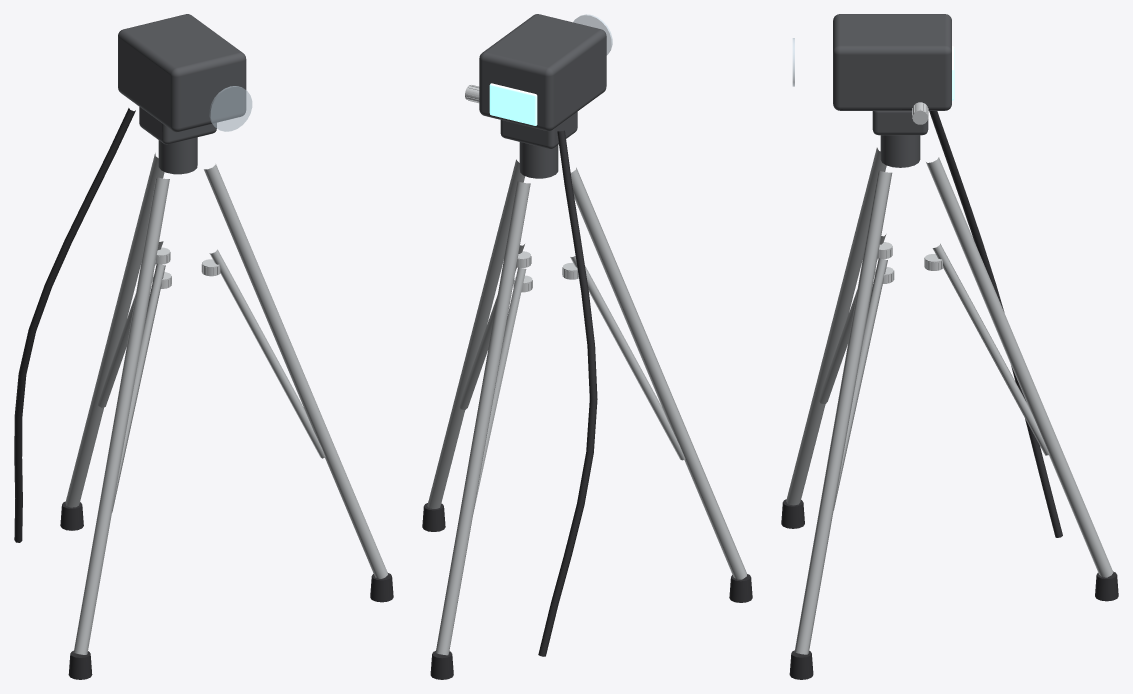
File: arctic-station-fps-kit-thermal-camera-tripod-fe3c3caf__28532.glb
The picture shows the model from 3 angles, left to right: view 1: azimuth 30°, elevation 25°; view 2: azimuth 150°, elevation 25°; view 3: azimuth 270°, elevation 25°; orthographic projection. The views are drawn at different scales.
Visible parts, largest first — view 1: thermal-camera-tripod; view 2: thermal-camera-tripod; view 3: thermal-camera-tripod.
Boxes of the visible parts, x1=… form: thermal-camera-tripod: x1=14, y1=14, x2=393, y2=679; thermal-camera-tripod: x1=422, y1=14, x2=752, y2=679; thermal-camera-tripod: x1=781, y1=14, x2=1118, y2=679.
Size of the model in its own units: 0.9605 by 1.58 by 0.8504.
